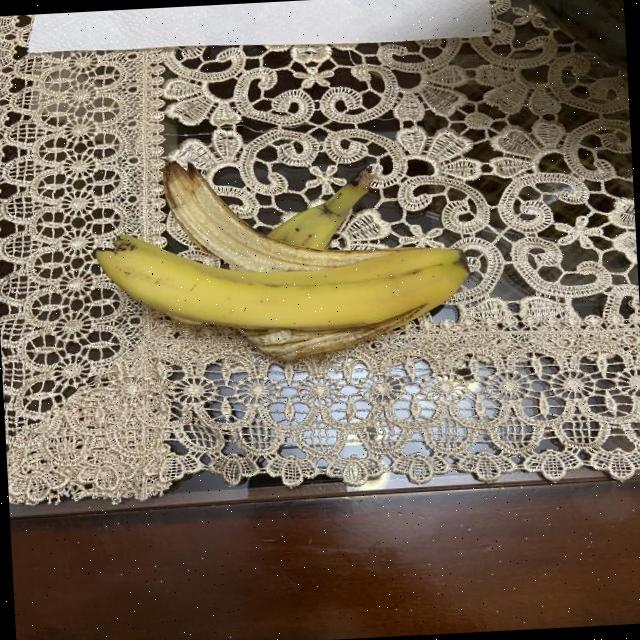banana-peel: (90, 214, 472, 345), (160, 148, 383, 277)
